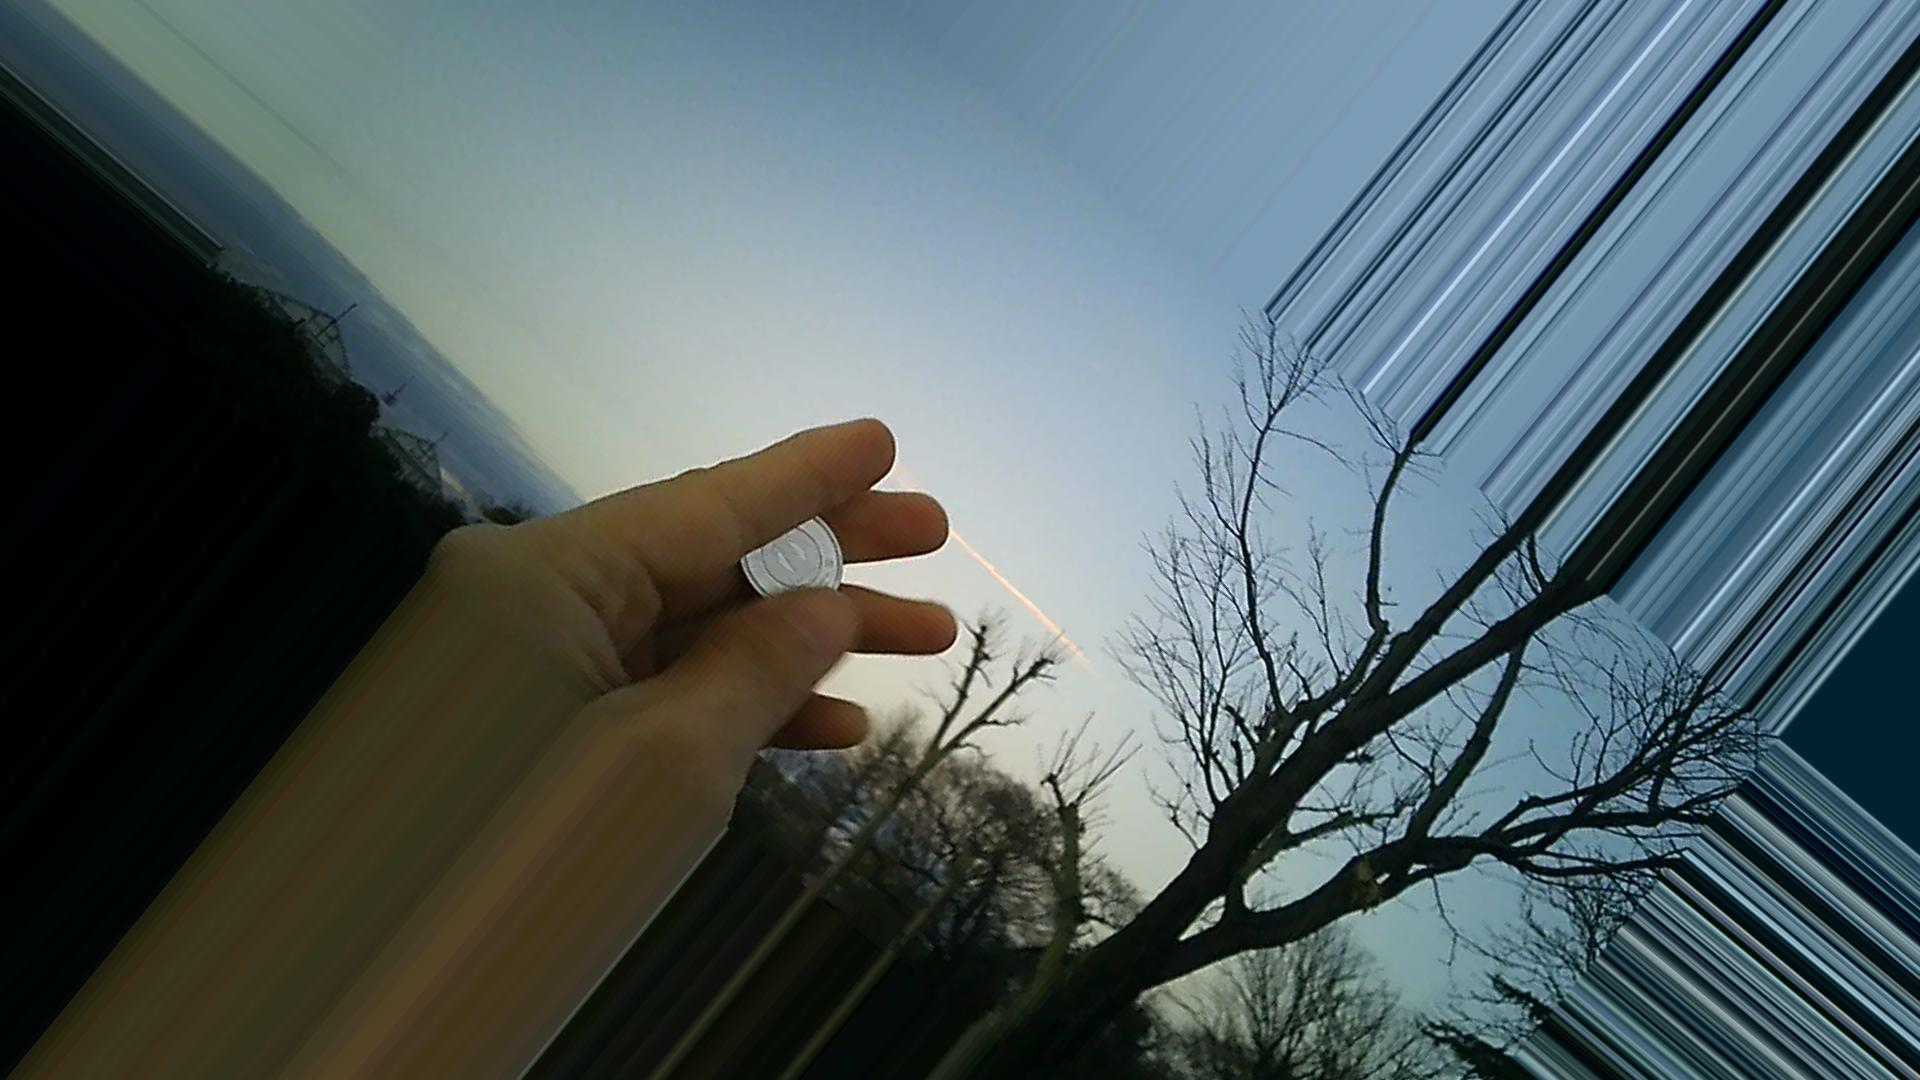1 Yen: (735, 501, 848, 611)
